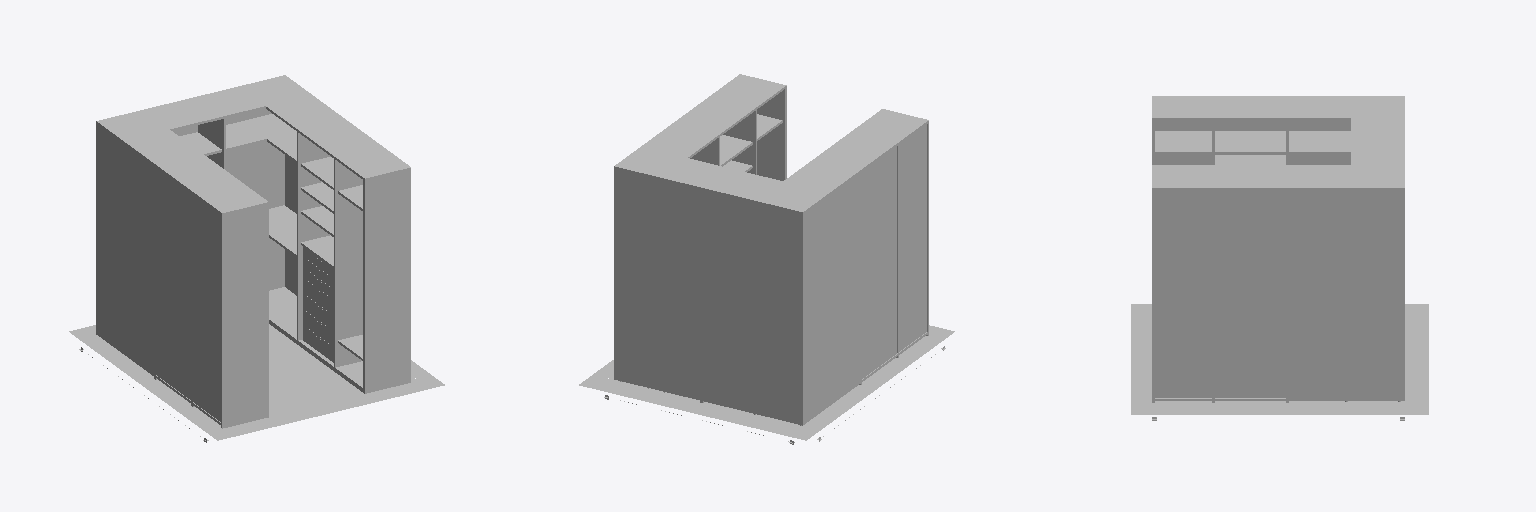
3 renders of one model, left to right at view 1: azimuth 30°, elevation 25°; view 2: azimuth 150°, elevation 25°; view 3: azimuth 270°, elevation 25°, orthographic.
Parts seen in each view (by area): view 1: Mesh112 B3_PC_DXF_1_1 Model, Mesh38 B3_PC_DXF_1_1 Model, Mesh34 B3_PC_DXF_1_1 Model, Mesh239 B3_PC_DXF_1_1 Model, Mesh54 B3_PC_DXF_1_1 Model, Mesh225 B3_PC_DXF_1_1 Model, Mesh39 B3_PC_DXF_1_1 Model, Mesh246 B3_PC_DXF_1_1 Model, Mesh147 B3_PC_DXF_1_1 Model, Mesh171 B3_PC_DXF_1_1 Model, Mesh140 B3_PC_DXF_1_1 Model, Mesh250 B3_PC_DXF_1_1 Model (+9 smaller); view 2: Mesh112 B3_PC_DXF_1_1 Model, Mesh147 B3_PC_DXF_1_1 Model, Mesh38 B3_PC_DXF_1_1 Model, Mesh54 B3_PC_DXF_1_1 Model, Mesh39 B3_PC_DXF_1_1 Model, Mesh140 B3_PC_DXF_1_1 Model, Mesh225 B3_PC_DXF_1_1 Model, Mesh250 B3_PC_DXF_1_1 Model, Mesh171 B3_PC_DXF_1_1 Model, Mesh239 B3_PC_DXF_1_1 Model, Mesh247 B3_PC_DXF_1_1 Model, Mesh246 B3_PC_DXF_1_1 Model (+1 smaller); view 3: Mesh147 B3_PC_DXF_1_1 Model, Mesh175 B3_PC_DXF_1_1 Model, Mesh229 B3_PC_DXF_1_1 Model, Mesh38 B3_PC_DXF_1_1 Model, Mesh140 B3_PC_DXF_1_1 Model, Mesh171 B3_PC_DXF_1_1 Model, Mesh246 B3_PC_DXF_1_1 Model, Mesh248 B3_PC_DXF_1_1 Model, Mesh225 B3_PC_DXF_1_1 Model, Mesh249 B3_PC_DXF_1_1 Model, Mesh247 B3_PC_DXF_1_1 Model, Mesh55 B3_PC_DXF_1_1 Model (+7 smaller).
Part boxes in pixels (x1,y1,x2,y2): Mesh112 B3_PC_DXF_1_1 Model: (96, 124, 197, 373); Mesh38 B3_PC_DXF_1_1 Model: (96, 86, 363, 406); Mesh34 B3_PC_DXF_1_1 Model: (221, 201, 268, 428); Mesh239 B3_PC_DXF_1_1 Model: (363, 166, 410, 393); Mesh54 B3_PC_DXF_1_1 Model: (156, 168, 190, 399); Mesh225 B3_PC_DXF_1_1 Model: (334, 145, 408, 367); Mesh39 B3_PC_DXF_1_1 Model: (193, 195, 220, 421); Mesh246 B3_PC_DXF_1_1 Model: (93, 324, 420, 429); Mesh147 B3_PC_DXF_1_1 Model: (226, 109, 296, 295); Mesh171 B3_PC_DXF_1_1 Model: (297, 118, 379, 340); Mesh140 B3_PC_DXF_1_1 Model: (239, 75, 342, 128); Mesh250 B3_PC_DXF_1_1 Model: (70, 332, 223, 440); Mesh112 B3_PC_DXF_1_1 Model: (703, 173, 860, 422); Mesh147 B3_PC_DXF_1_1 Model: (614, 169, 699, 397); Mesh38 B3_PC_DXF_1_1 Model: (660, 87, 927, 402); Mesh54 B3_PC_DXF_1_1 Model: (862, 146, 896, 378); Mesh39 B3_PC_DXF_1_1 Model: (899, 124, 926, 351); Mesh140 B3_PC_DXF_1_1 Model: (614, 124, 717, 179); Mesh225 B3_PC_DXF_1_1 Model: (709, 75, 784, 174); Mesh250 B3_PC_DXF_1_1 Model: (800, 332, 953, 440); Mesh171 B3_PC_DXF_1_1 Model: (672, 97, 754, 165); Mesh239 B3_PC_DXF_1_1 Model: (739, 74, 786, 180); Mesh247 B3_PC_DXF_1_1 Model: (579, 383, 805, 440); Mesh246 B3_PC_DXF_1_1 Model: (603, 334, 930, 429); Mesh147 B3_PC_DXF_1_1 Model: (1289, 190, 1404, 398); Mesh175 B3_PC_DXF_1_1 Model: (1215, 190, 1285, 397); Mesh229 B3_PC_DXF_1_1 Model: (1155, 190, 1211, 397); Mesh38 B3_PC_DXF_1_1 Model: (1155, 96, 1404, 164); Mesh140 B3_PC_DXF_1_1 Model: (1289, 165, 1404, 189); Mesh171 B3_PC_DXF_1_1 Model: (1215, 165, 1288, 402); Mesh246 B3_PC_DXF_1_1 Model: (1149, 311, 1410, 406); Mesh248 B3_PC_DXF_1_1 Model: (1132, 407, 1428, 414); Mesh225 B3_PC_DXF_1_1 Model: (1155, 165, 1214, 402); Mesh249 B3_PC_DXF_1_1 Model: (1131, 304, 1148, 414); Mesh247 B3_PC_DXF_1_1 Model: (1411, 304, 1428, 413); Mesh55 B3_PC_DXF_1_1 Model: (1215, 131, 1285, 153).
Size of the model in its own units: 2936610 by 2756000 by 3300702.